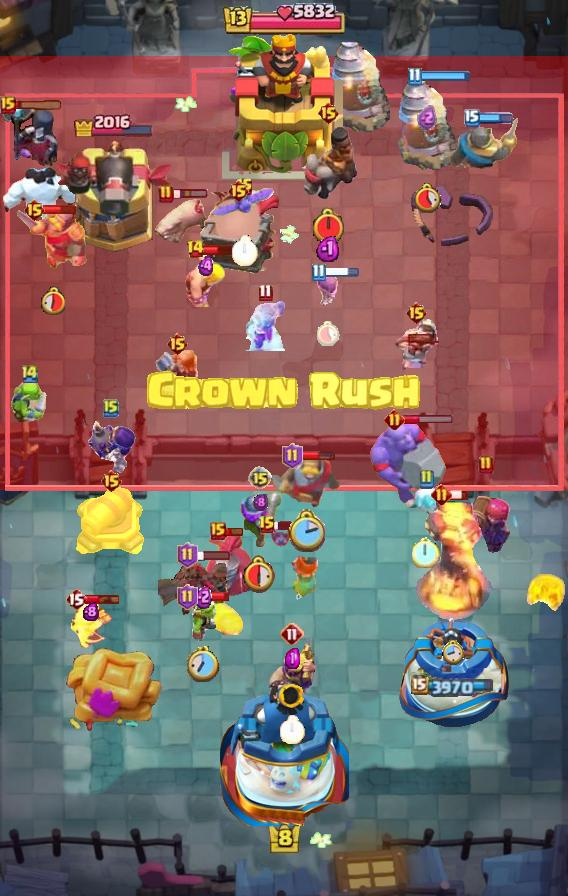archer: (68, 597, 114, 649)
bar: (419, 70, 471, 82), (12, 100, 64, 111), (403, 414, 454, 425), (324, 266, 361, 279), (202, 243, 239, 256), (172, 188, 209, 200), (85, 593, 121, 605), (195, 549, 231, 561), (478, 112, 514, 124), (301, 450, 336, 462), (196, 591, 230, 602), (43, 204, 77, 215), (449, 489, 469, 501), (224, 526, 244, 537), (274, 520, 294, 531)
bar-level: (280, 622, 304, 646), (248, 466, 272, 490), (100, 469, 123, 493), (166, 332, 189, 356), (405, 301, 428, 325), (23, 198, 46, 222), (227, 179, 250, 203), (317, 101, 340, 125), (177, 584, 198, 610), (177, 542, 198, 568), (282, 443, 303, 469), (65, 587, 87, 611), (431, 484, 452, 505), (384, 409, 405, 430), (20, 363, 40, 384), (186, 239, 205, 259), (258, 515, 276, 535), (236, 177, 254, 197), (418, 469, 434, 489), (478, 455, 494, 475), (103, 398, 119, 418), (158, 184, 174, 204), (210, 522, 226, 540), (464, 109, 480, 127), (0, 96, 16, 114), (258, 283, 273, 302), (311, 263, 326, 282), (407, 67, 422, 86)
barbarian: (184, 252, 228, 307)
barbarian-evolution: (266, 638, 318, 700)
bat: (268, 523, 292, 549)
bat-evolution: (212, 188, 278, 222)
bomber-evolution: (85, 420, 137, 476)
cannoneer-tower: (53, 138, 175, 256)
clock: (287, 509, 325, 552), (243, 554, 278, 593), (311, 207, 346, 246), (187, 646, 219, 682), (412, 182, 442, 213), (412, 536, 440, 568), (232, 235, 258, 266), (280, 715, 305, 744), (40, 286, 65, 315), (315, 320, 340, 346), (442, 640, 464, 666)
elixir: (316, 234, 339, 262), (417, 105, 437, 130), (195, 585, 212, 609), (198, 255, 215, 277), (285, 648, 300, 669), (83, 602, 99, 621), (253, 493, 268, 512)
firecracker-evolution: (458, 480, 514, 556)
goblin: (10, 375, 50, 425), (187, 597, 219, 645)
hog: (150, 197, 208, 247)
ice-spirit: (403, 483, 449, 519)
king-tower: (220, 678, 349, 826), (222, 31, 346, 181)
king-tower-bar: (221, 0, 347, 40)
knight: (16, 206, 89, 269), (449, 117, 521, 172), (270, 456, 342, 509)
little-prince: (244, 301, 286, 351)
musketeer: (237, 490, 283, 550)
night-witch: (0, 102, 62, 172)
princess: (392, 315, 440, 373)
queen-tower: (394, 614, 513, 731)
ram-rider: (297, 125, 359, 201)
skeleton-evolution: (314, 269, 341, 307)
tower-bar: (73, 111, 155, 137), (411, 675, 496, 697)
valkyrie: (153, 350, 201, 400), (285, 551, 323, 603)
